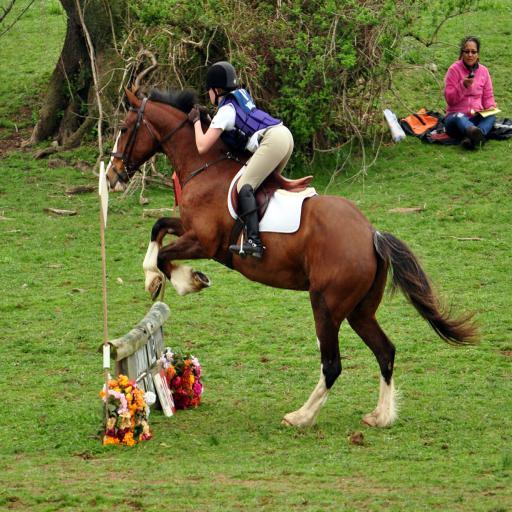Horse: (104, 82, 485, 430)
